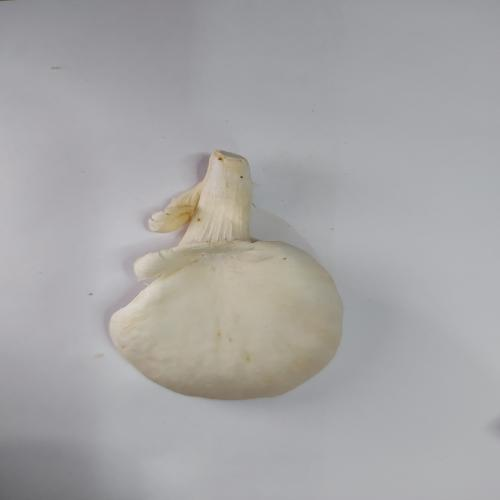Oyster Mushroom: (108, 149, 345, 400)
